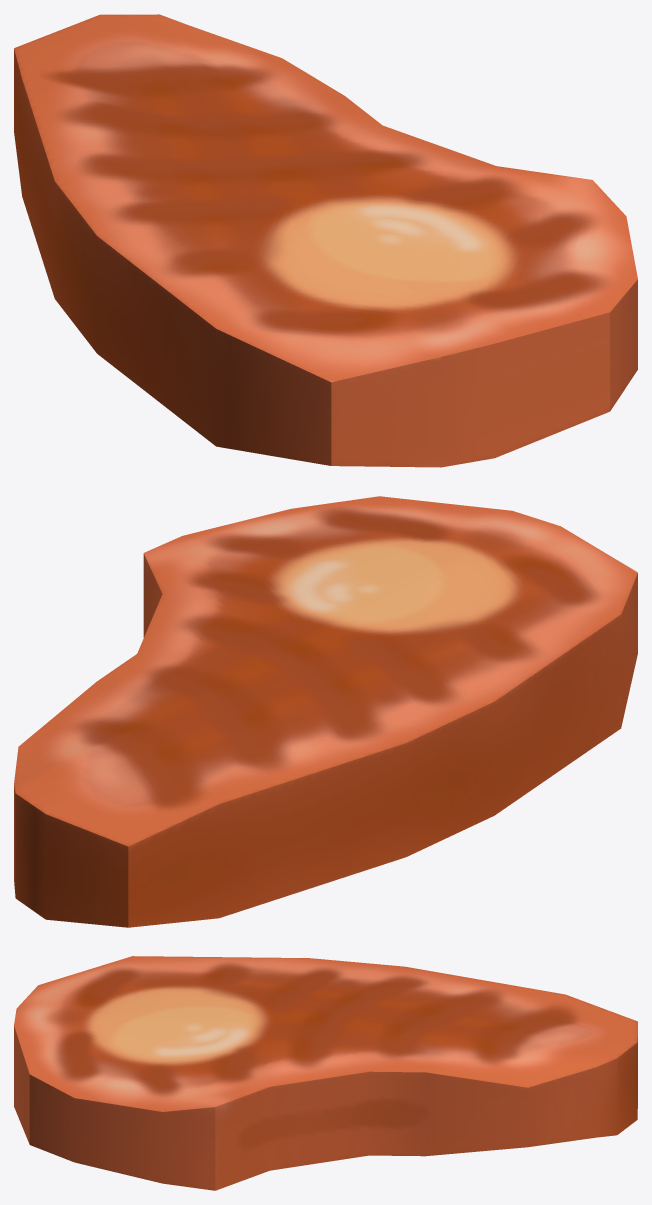
Rendered from steak.fbx.
The picture shows the model from 3 angles, top to bottom: view 1: azimuth 30°, elevation 25°; view 2: azimuth 150°, elevation 25°; view 3: azimuth 270°, elevation 25°; orthographic projection. The views are drawn at different scales.
Visible parts, largest first — view 1: Meat; view 2: Meat; view 3: Meat.
Boxes of the visible parts, bbox=[...] form: Meat: bbox=[14, 14, 637, 467]; Meat: bbox=[14, 496, 637, 927]; Meat: bbox=[14, 956, 637, 1190].
Bounding box in the file's own units: 121 × 37.23 × 211.
1 material, 1 textured.
